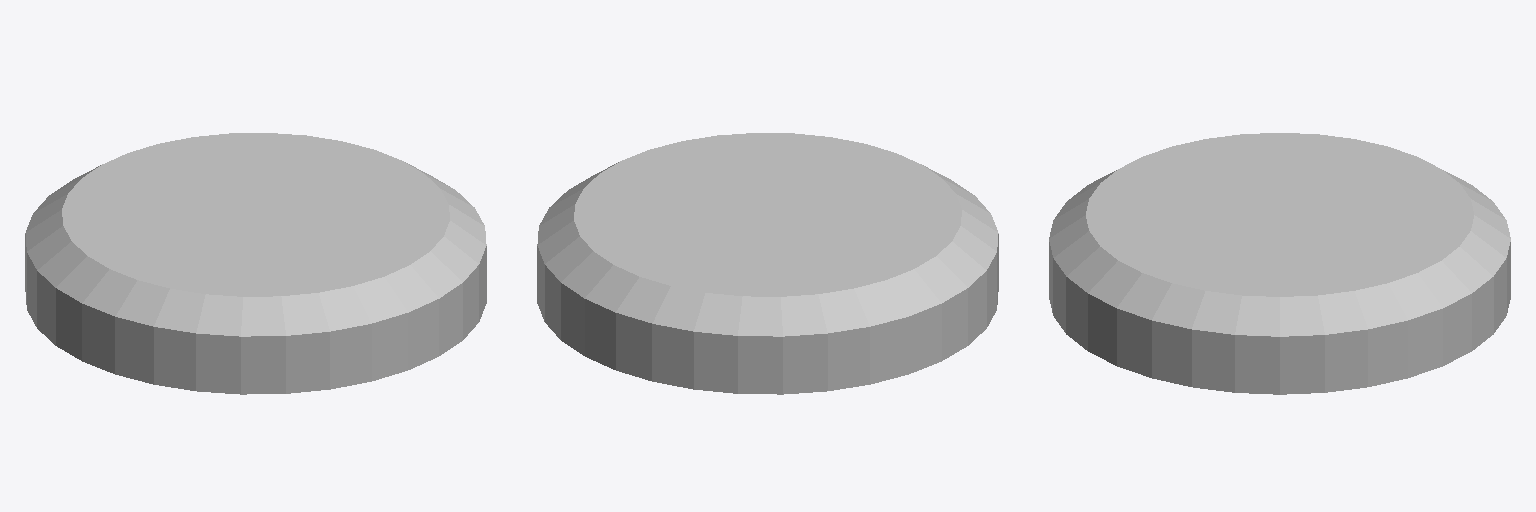
File: emojiBacker.obj
The picture shows the model from 3 angles: view 1: azimuth 30°, elevation 25°; view 2: azimuth 150°, elevation 25°; view 3: azimuth 270°, elevation 25°; orthographic projection.
Parts seen in each view (by area): view 1: Circle; view 2: Circle; view 3: Circle.
Part boxes in pixels (left/top/right/bottom): Circle: left=25, top=133, right=486, bottom=394; Circle: left=537, top=133, right=998, bottom=394; Circle: left=1049, top=133, right=1510, bottom=394.
Bounding box in the file's own units: 3.6 × 0.7065 × 3.6.